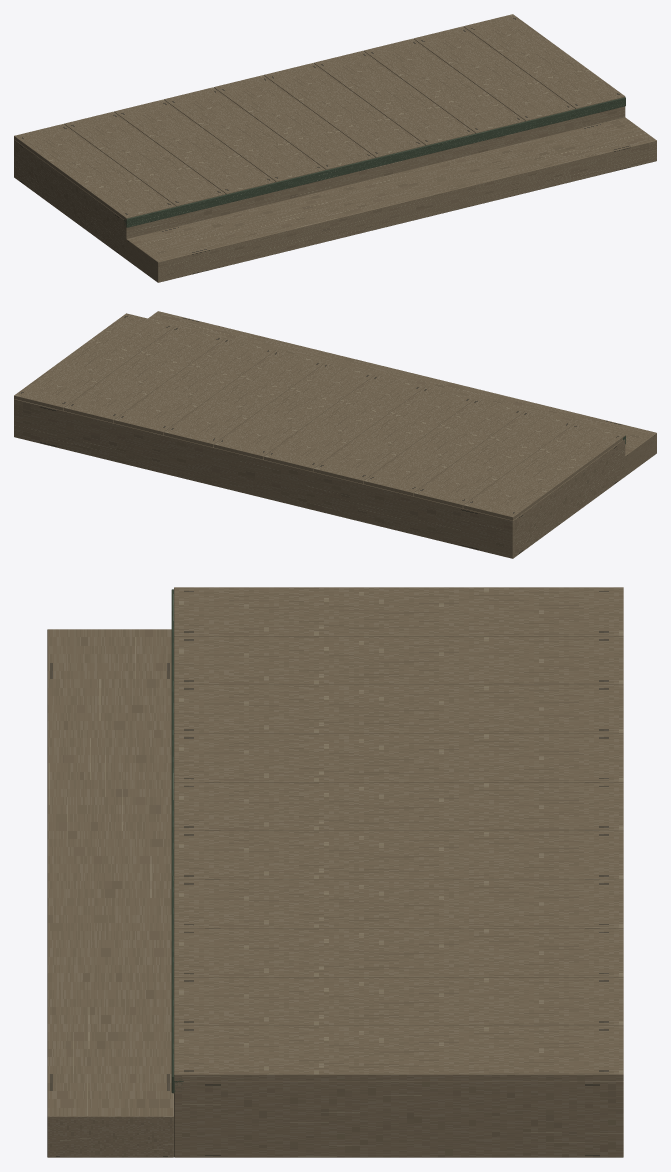
Rendered from house_01_porch_deck.glb.
The picture shows the model from 3 angles, top to bottom: view 1: azimuth 30°, elevation 25°; view 2: azimuth 150°, elevation 25°; view 3: azimuth 270°, elevation 25°; orthographic projection. The views are drawn at different scales.
Visible parts, largest first — view 1: house_01_porch_deck; view 2: house_01_porch_deck; view 3: house_01_porch_deck.
Boxes of the visible parts, box(x1,y1,x2,y2) form: house_01_porch_deck: box(14, 14, 656, 282); house_01_porch_deck: box(14, 311, 656, 558); house_01_porch_deck: box(47, 587, 623, 1157).
Bounding box in the file's own units: 3 × 0.24 × 1.5.
Materials: 2 (2 with a texture image).
